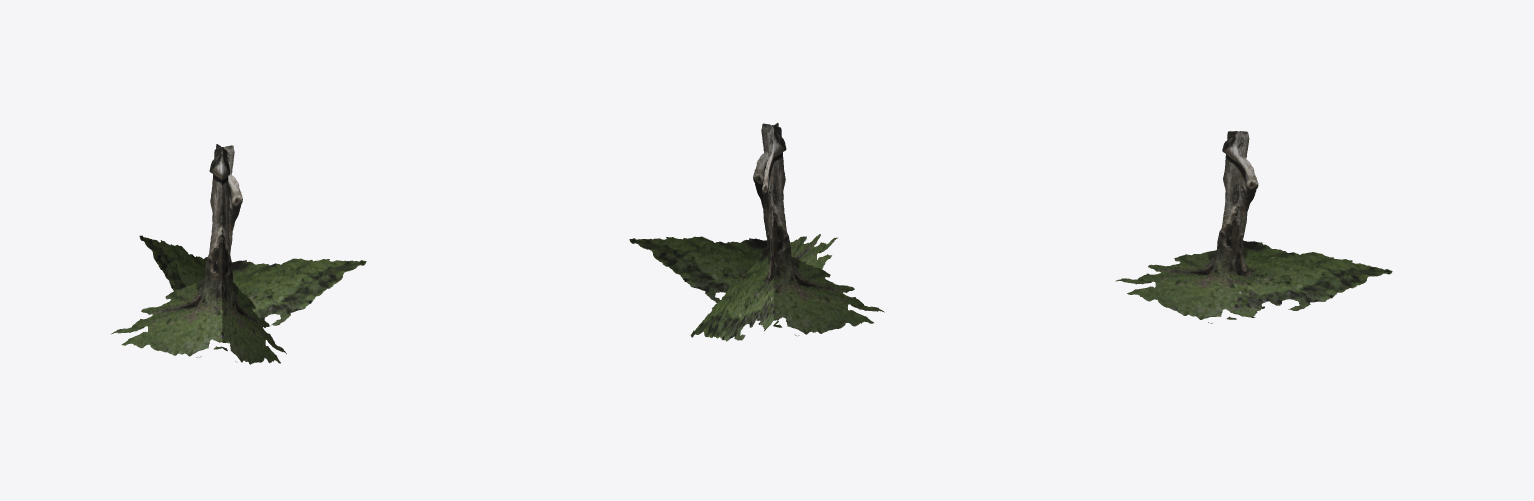
File: alondra-2d.glb
3 renders of one model, left to right at view 1: azimuth 30°, elevation 25°; view 2: azimuth 150°, elevation 25°; view 3: azimuth 270°, elevation 25°, orthographic. The views are drawn at different scales.
Parts seen in each view (by area): view 1: Plane, Plane.001; view 2: Plane, Plane.001; view 3: Plane.001.
Boxes of the visible parts, left/top/right/bottom form: Plane: left=111, top=145, right=366, bottom=357; Plane.001: left=139, top=144, right=286, bottom=364; Plane: left=629, top=123, right=884, bottom=336; Plane.001: left=690, top=123, right=837, bottom=341; Plane.001: left=1115, top=131, right=1392, bottom=323.
Size of the model in its own units: 15.02 by 8.39 by 15.02.
Materials: 2 (2 with a texture image).
